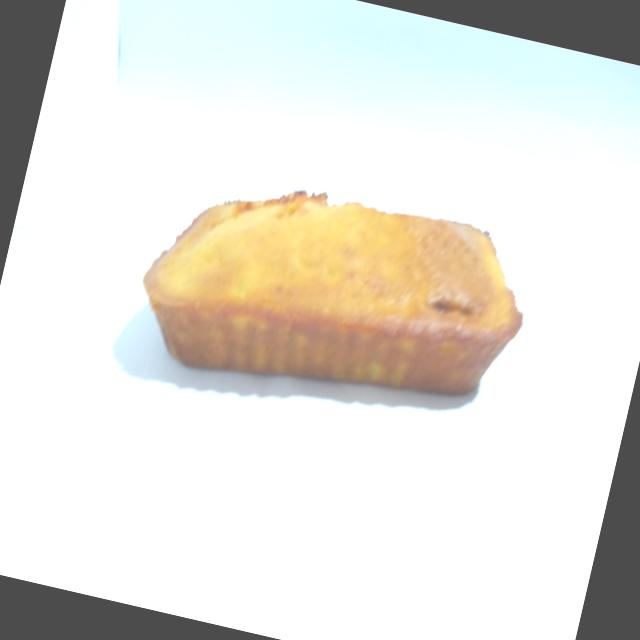Sopa: (120, 143, 548, 442)
